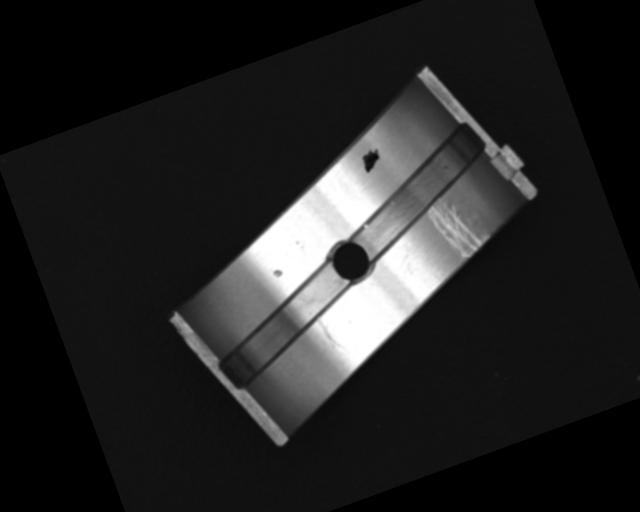blot: (357, 146, 385, 175)
bruise: (271, 267, 283, 278)
gap: (327, 118, 507, 260), (199, 261, 372, 391)
hole: (324, 235, 375, 288)
nick: (315, 312, 347, 358)
scratch: (425, 190, 492, 264)
